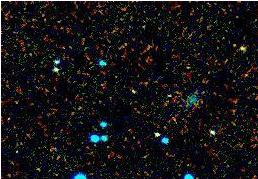star: (228, 40, 258, 70)
